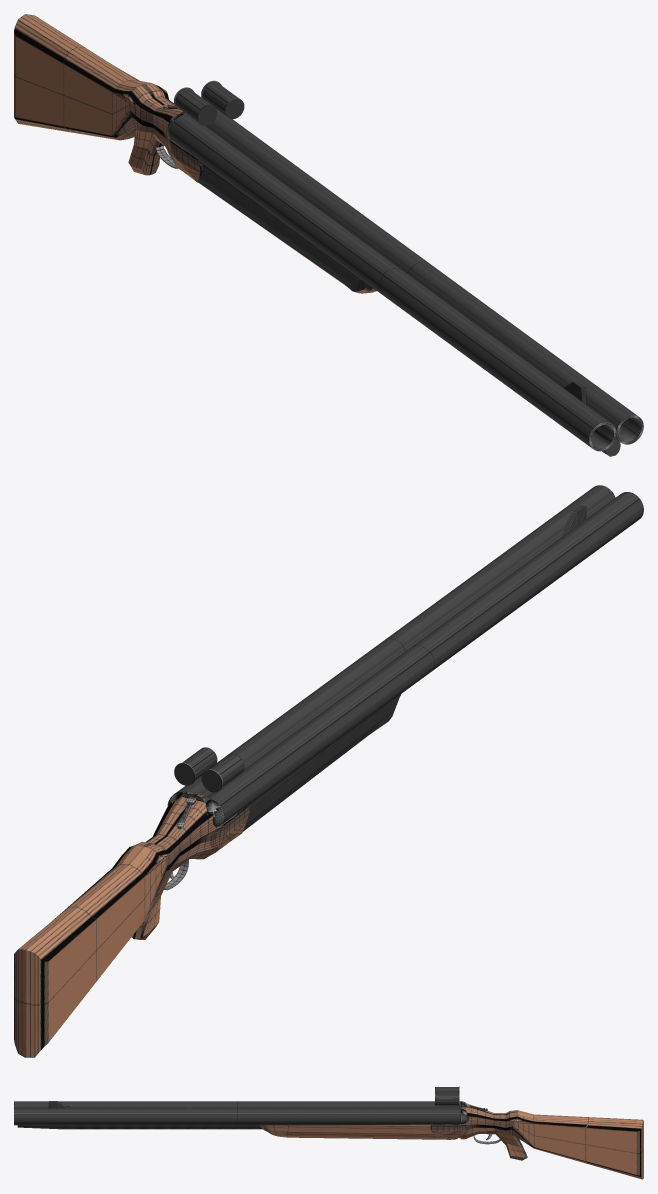
The model's file is Completed M30 Luftwaffe.fbx.
The picture shows the model from 3 angles, top to bottom: view 1: azimuth 30°, elevation 25°; view 2: azimuth 150°, elevation 25°; view 3: azimuth 270°, elevation 25°; orthographic projection. The views are drawn at different scales.
Visible parts, largest first — view 1: m30; view 2: m30; view 3: m30.
Part boxes in pixels (left/top/right/bottom): m30: left=14, top=14, right=643, bottom=456; m30: left=14, top=485, right=643, bottom=1057; m30: left=14, top=1086, right=643, bottom=1179.
Size of the model in its own units: 105 by 301 by 1963.
